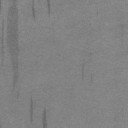red iron: (8, 0, 18, 89), (1, 18, 4, 66), (42, 109, 47, 128), (32, 0, 36, 20), (30, 98, 33, 122), (46, 0, 50, 16), (82, 63, 84, 80)
